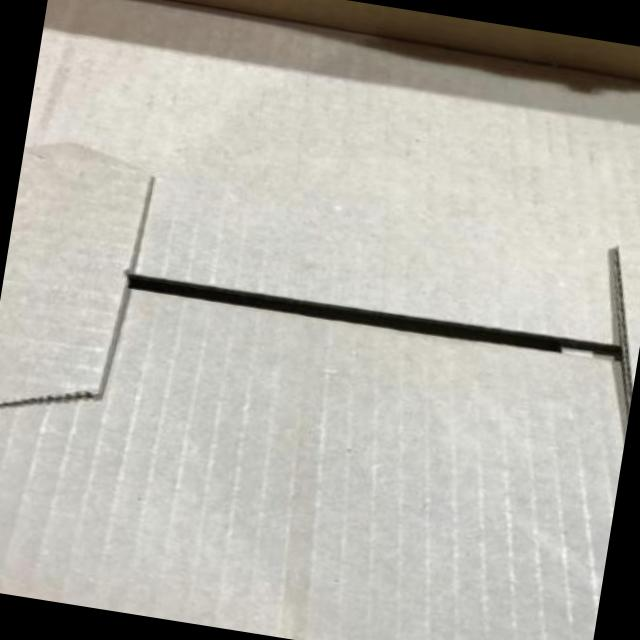cardboard paper: (0, 30, 640, 400), (0, 291, 623, 640)
